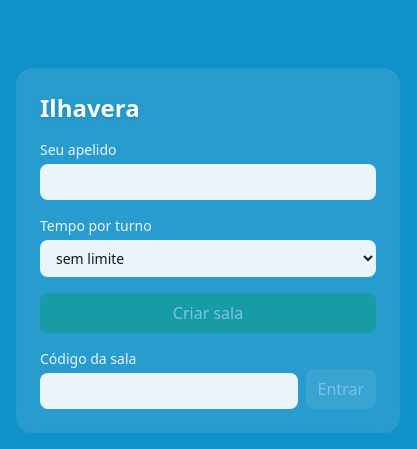
Test: tela de entrada › código inexistente vira recado, e não tela em branco
(page scrolled)
Type "Ana" into the field with test id "apelido".
click(208, 182); type("Ana")  # box [40,164,376,200]
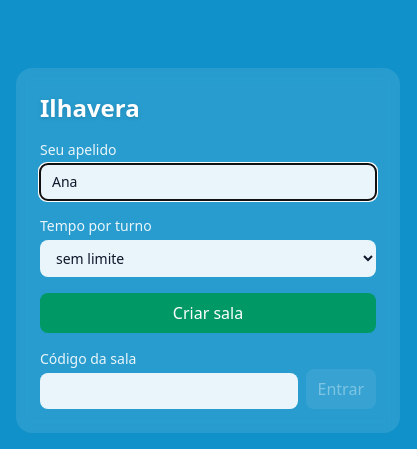
Type "ZZZZZZ" into the field with test id "codigo".
click(169, 391); type("ZZZZZZ")  # box [40,373,298,409]
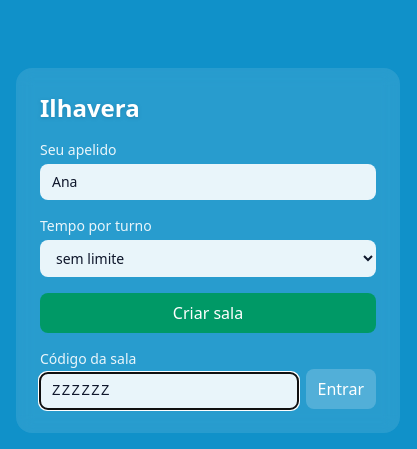
Click the button "Entrar".
click(341, 389)  # box [306,369,376,409]
(page scrolled)
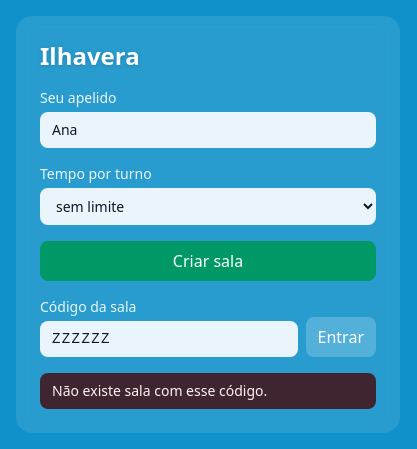
Expected: the message reads "Não existe sala com esse código.", [52,381,267,400]
